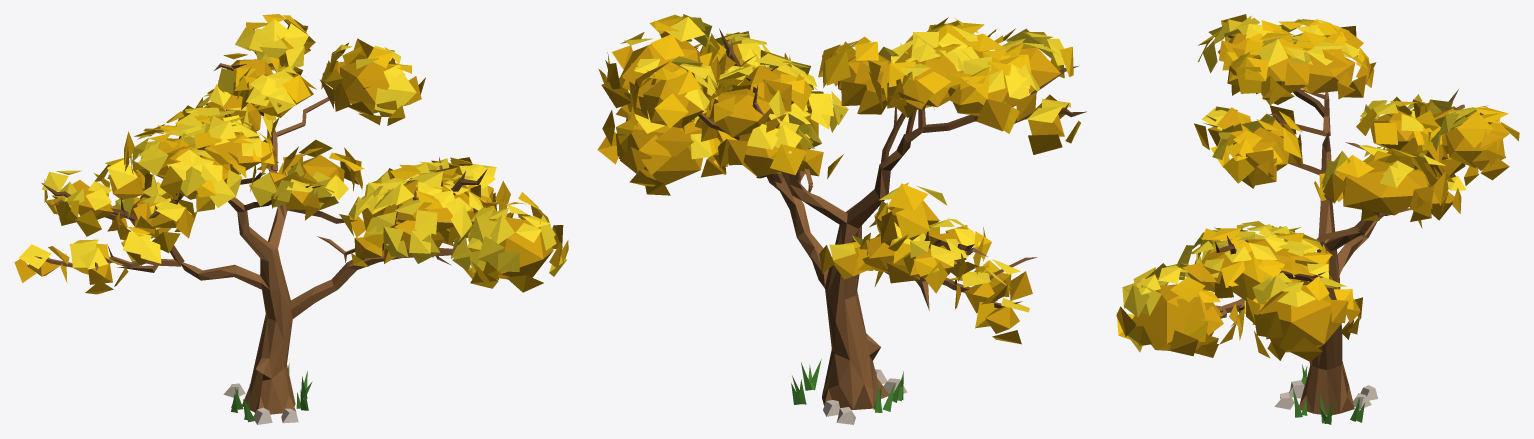
File: guayacan_3_bloom.glb
3 renders of one model, left to right at view 1: azimuth 30°, elevation 25°; view 2: azimuth 150°, elevation 25°; view 3: azimuth 270°, elevation 25°, orthographic. The views are drawn at different scales.
Parts seen in each view (by area): view 1: guayacan_3_bloom; view 2: guayacan_3_bloom; view 3: guayacan_3_bloom.
Part boxes in pixels (bbox=[...]): guayacan_3_bloom: bbox=[14, 14, 568, 424]; guayacan_3_bloom: bbox=[597, 14, 1086, 424]; guayacan_3_bloom: bbox=[1116, 14, 1519, 424].
Size of the model in its own units: 8.87 by 6.38 by 6.9.
